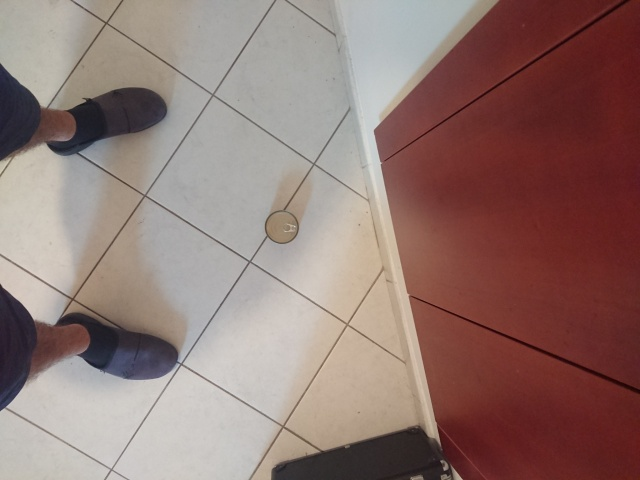Giana Tuna Salad Mexico 185g: (263, 209, 301, 246)
